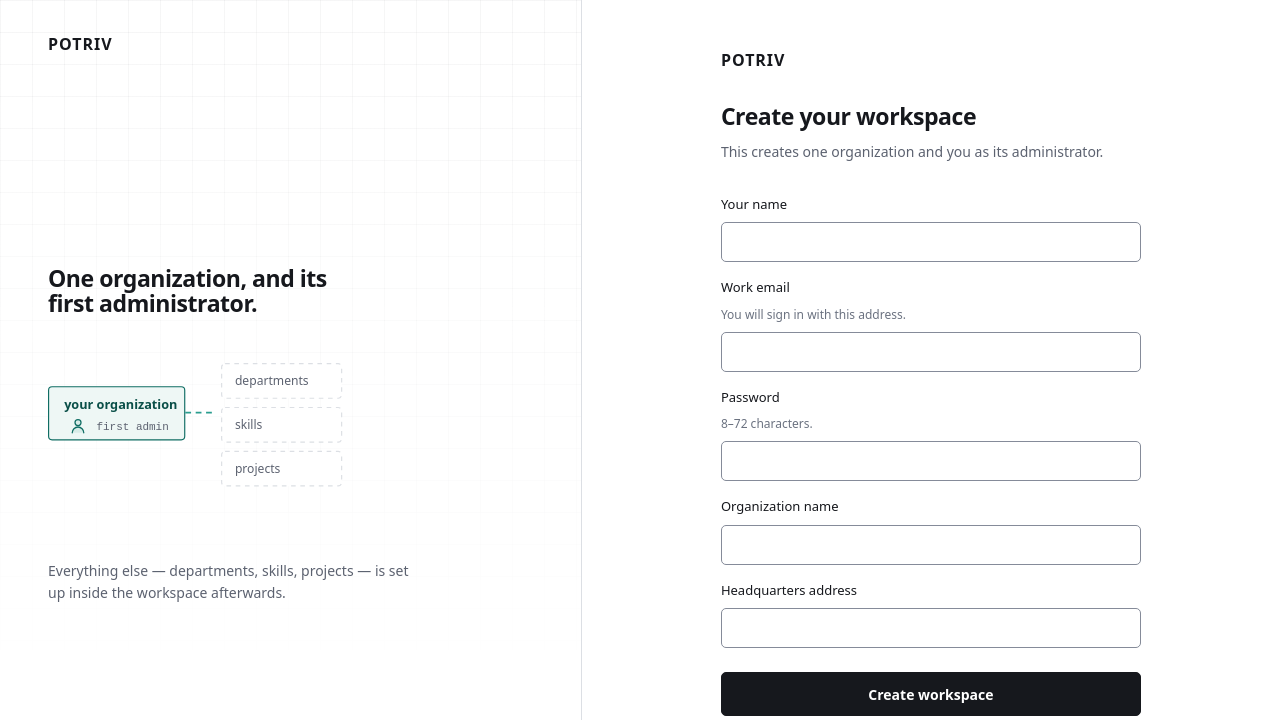
when the backend accepts › reports the workspace as created and names the administrator
Type "Ada Lovelace" into the field labelled "Your name". click: (931, 242)
box: [721,222,1141,262]
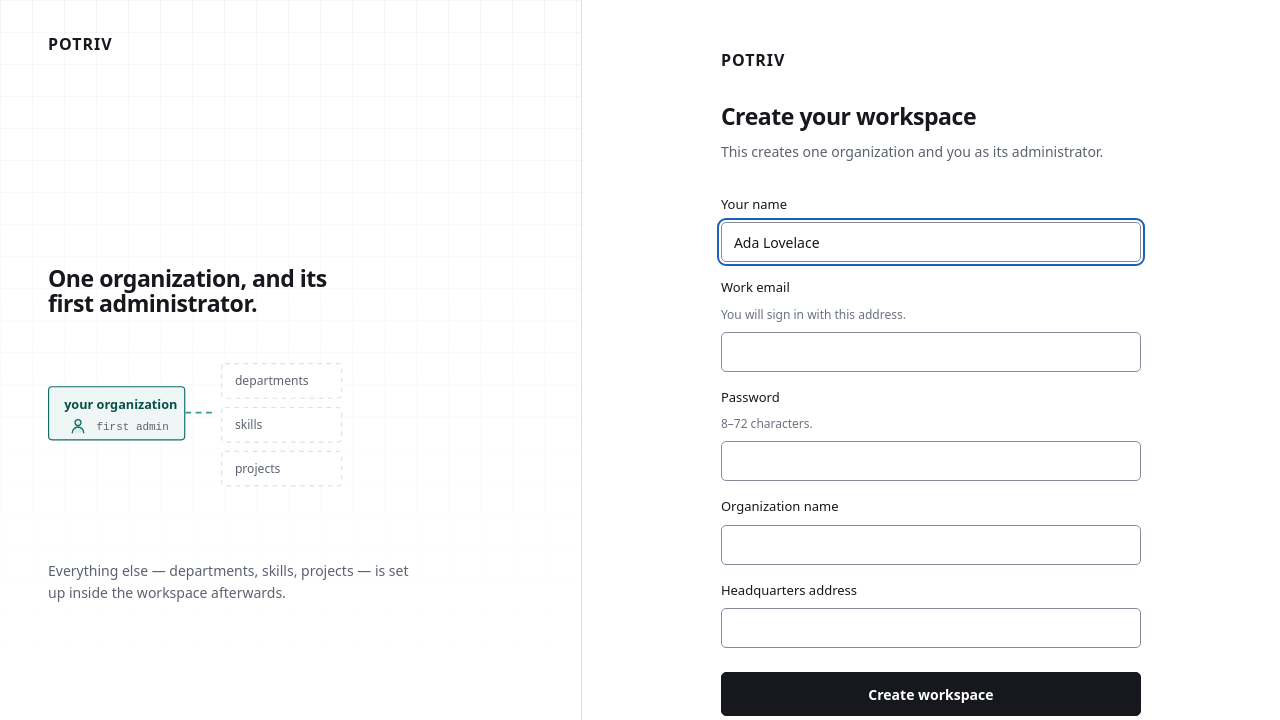
Type "ada@example.com" into the field labelled "Work email". click: (931, 352)
box: [721,332,1141,372]
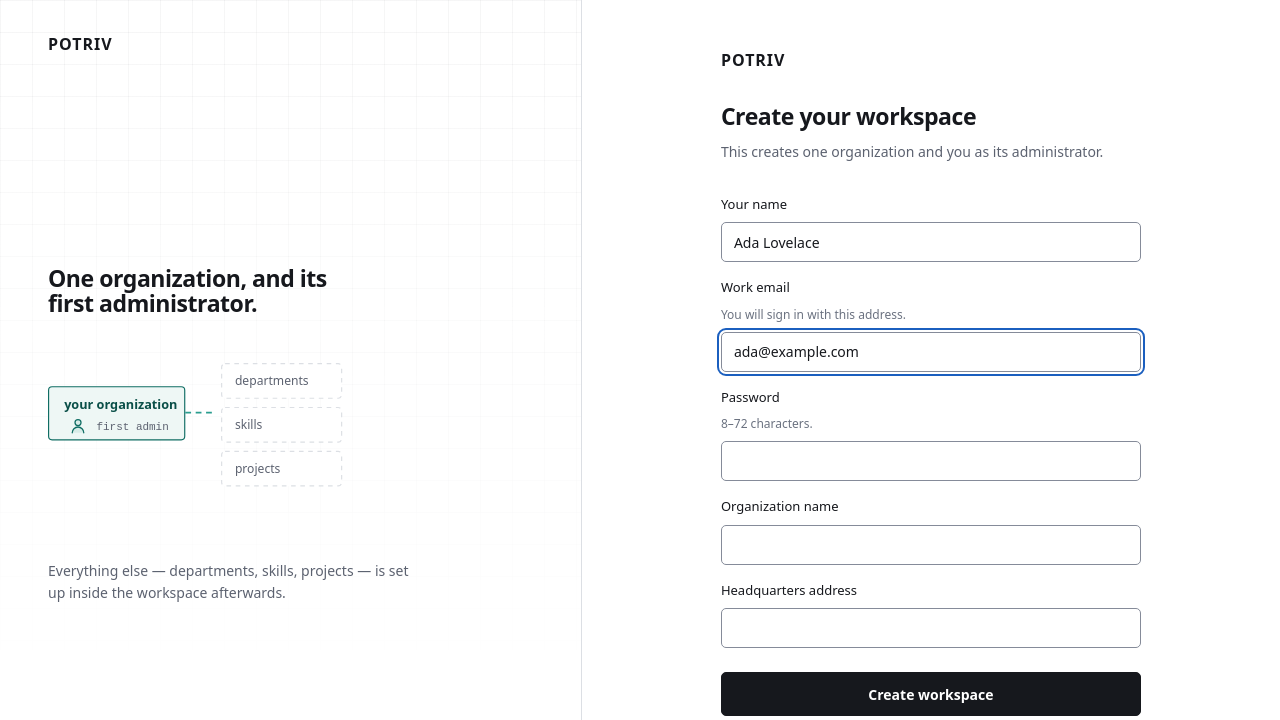
Type "correct-horse-battery" into the password field labelled "Password". click: (931, 461)
box: [721,441,1141,481]
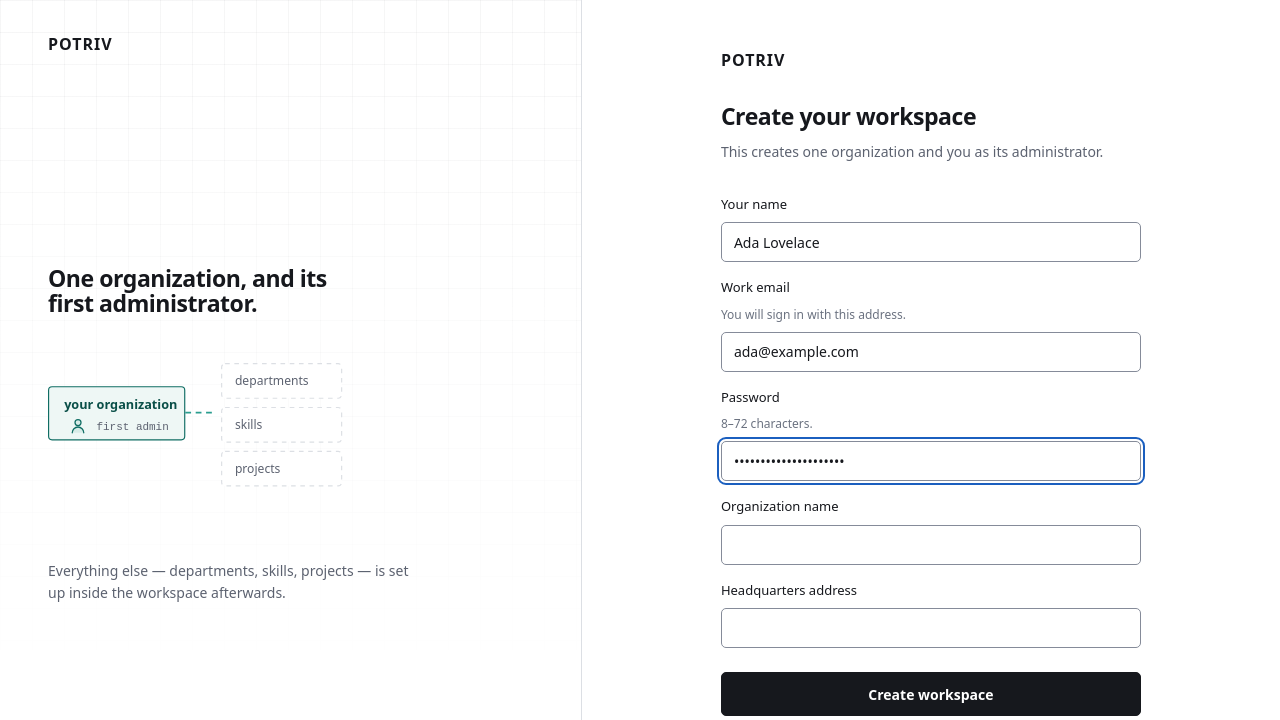
Type "Analytical Engines" into the field labelled "Organization name". click: (931, 545)
box: [721,525,1141,565]
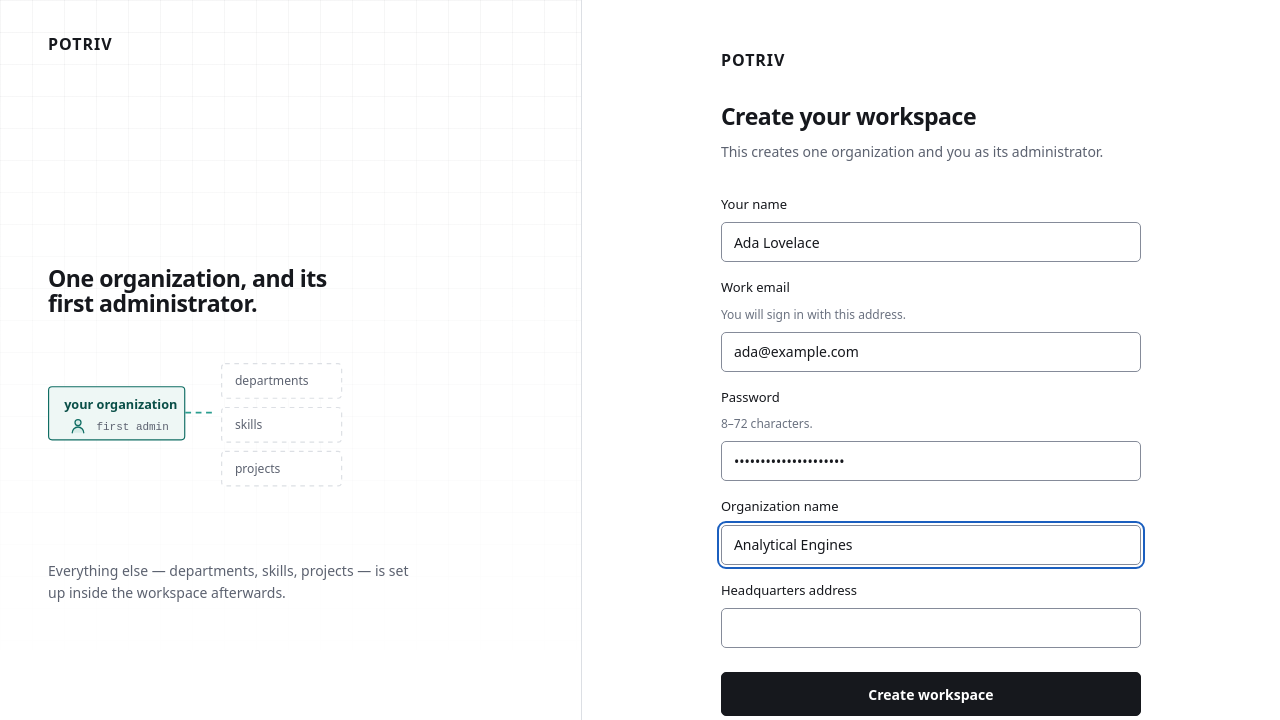
Type "1 Marylebone Road" into the field labelled "Headquarters address". click: (931, 628)
box: [721,608,1141,648]
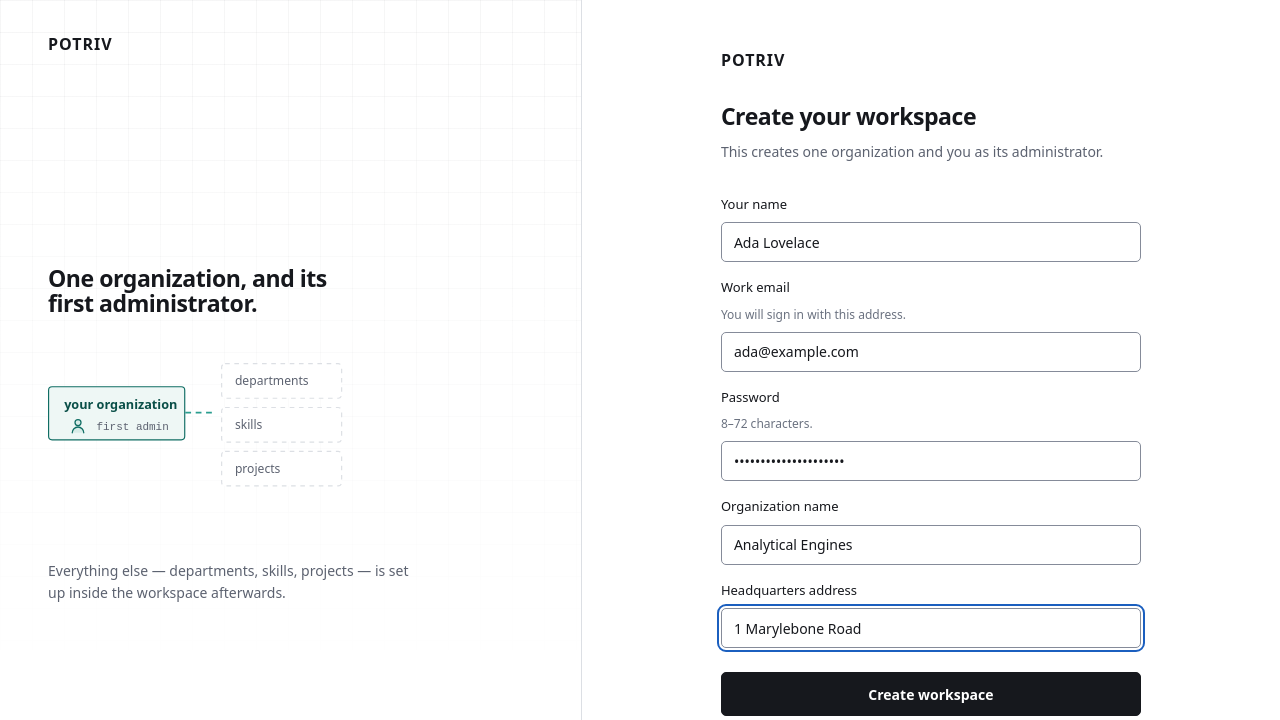
Click the button "Create workspace". click: (931, 694)
box: [721,672,1141,716]
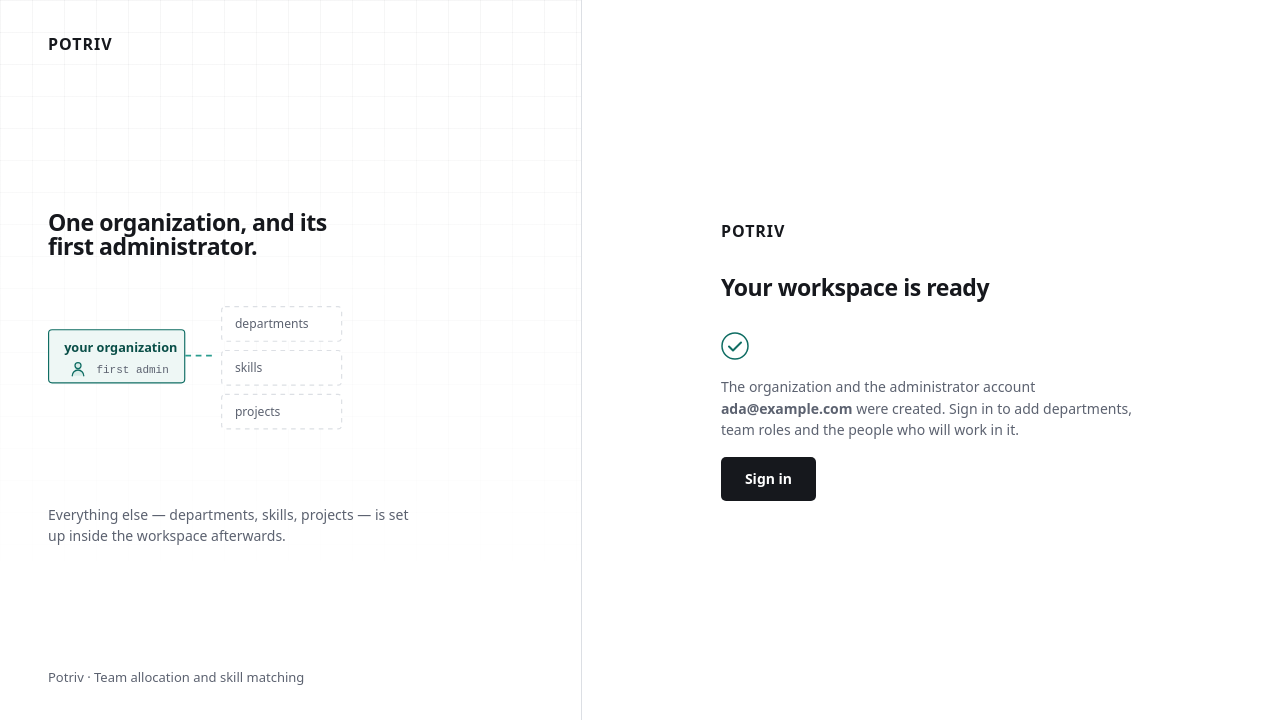
Check: the heading "Your workspace is ready" is shown, box [721,271,989,303]
Check: the text "ada@example.com" is shown, box [721,399,852,418]
